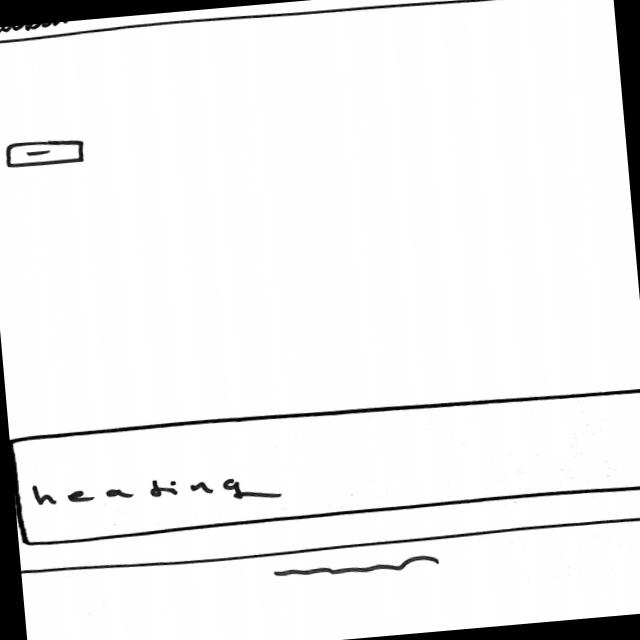container: (10, 379, 640, 548), (1, 1, 613, 49)
icon-button: (3, 137, 90, 172)
label: (31, 463, 286, 522), (1, 21, 83, 37)
text: (270, 554, 441, 586)
